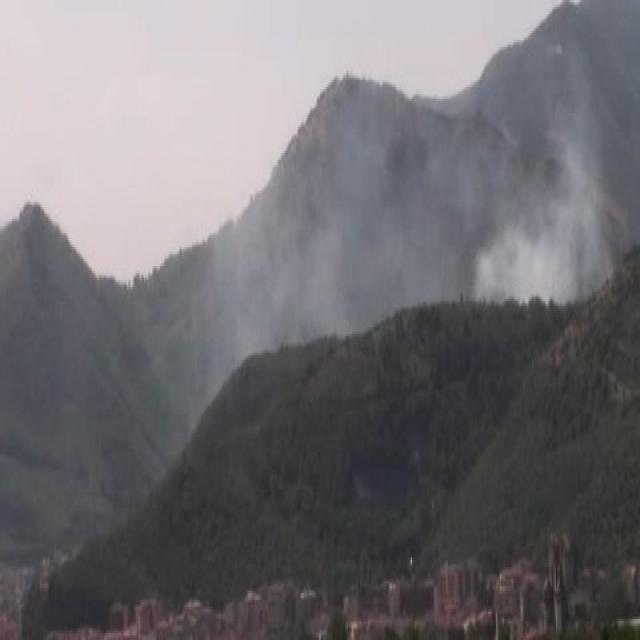smoke: (293, 110, 604, 305)
